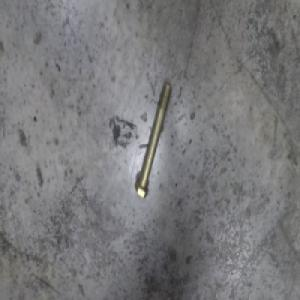Bolt: (132, 82, 175, 197)
